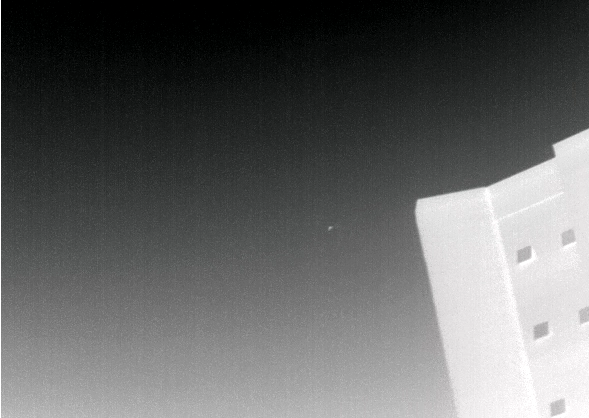dim target: (326, 225, 334, 231)
